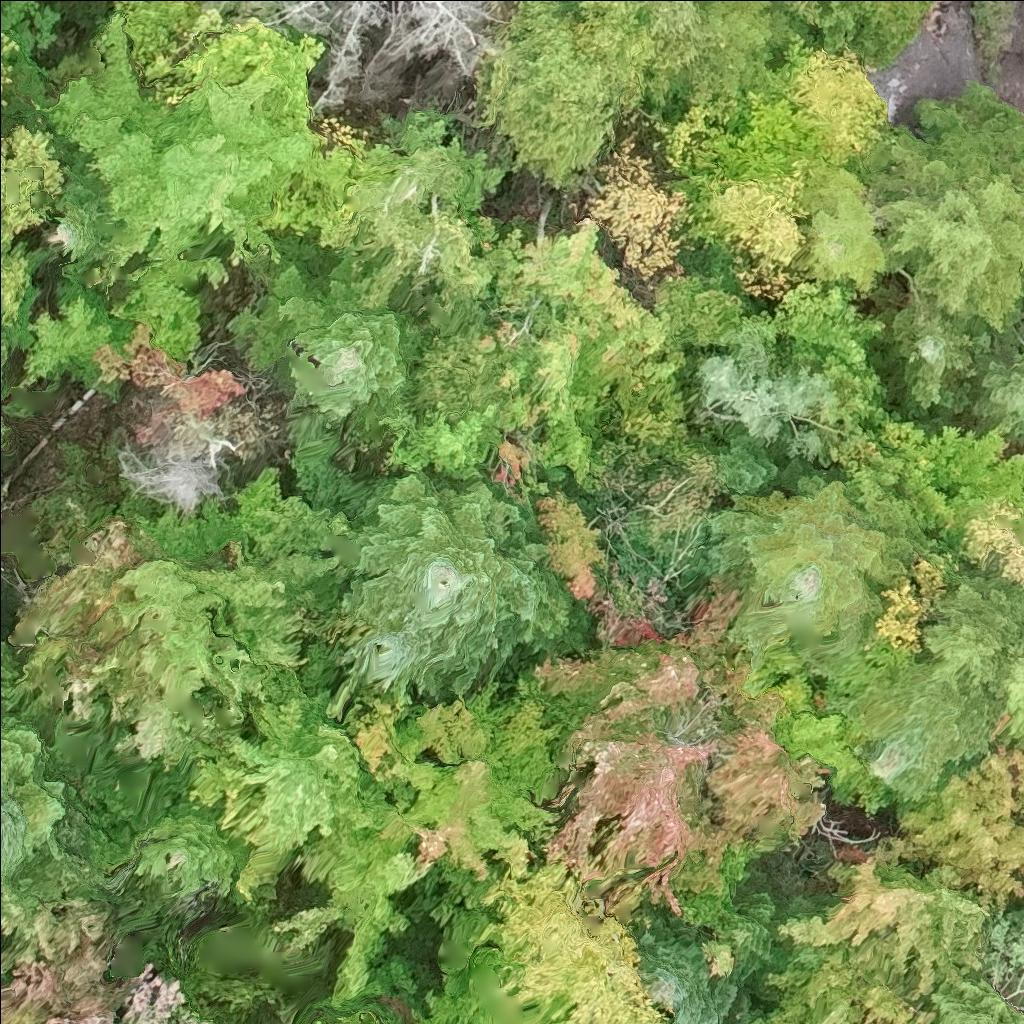crown: (337, 472, 549, 695), (467, 0, 709, 186), (703, 471, 920, 666), (858, 80, 1023, 330), (224, 254, 407, 418), (265, 0, 505, 118), (584, 129, 695, 284), (664, 158, 811, 270), (787, 37, 897, 165), (886, 281, 978, 417), (696, 90, 823, 184), (767, 274, 890, 369), (811, 188, 889, 294), (816, 0, 932, 65), (653, 274, 742, 344), (782, 0, 811, 6)
